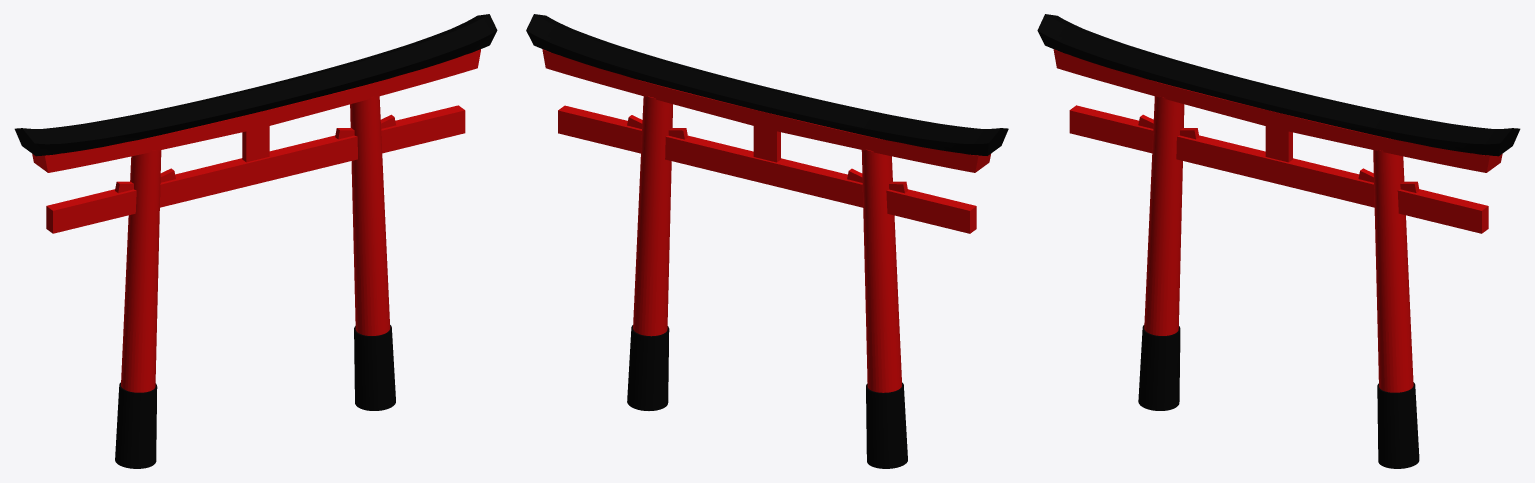
3 views of the same model, side by side, from view 1: azimuth 30°, elevation 25°; view 2: azimuth 150°, elevation 25°; view 3: azimuth 330°, elevation 25° (orthographic).
Parts seen in each view (by area): view 1: Geode; view 2: Geode; view 3: Geode.
Boxes of the visible parts, x1,y1,x2,y2 form: Geode: [14, 14, 497, 468]; Geode: [526, 14, 1008, 468]; Geode: [1037, 14, 1520, 468].
Size of the model in its own units: 2.75 by 2.03 by 0.2098.
